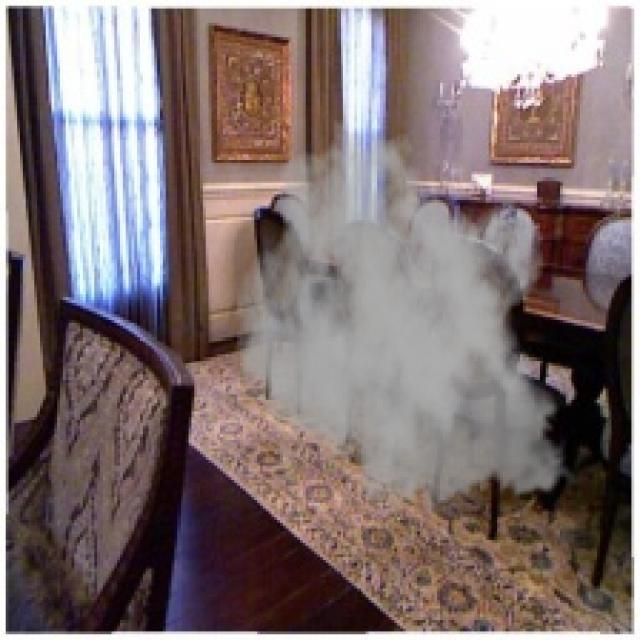smoke: (234, 117, 580, 520)
